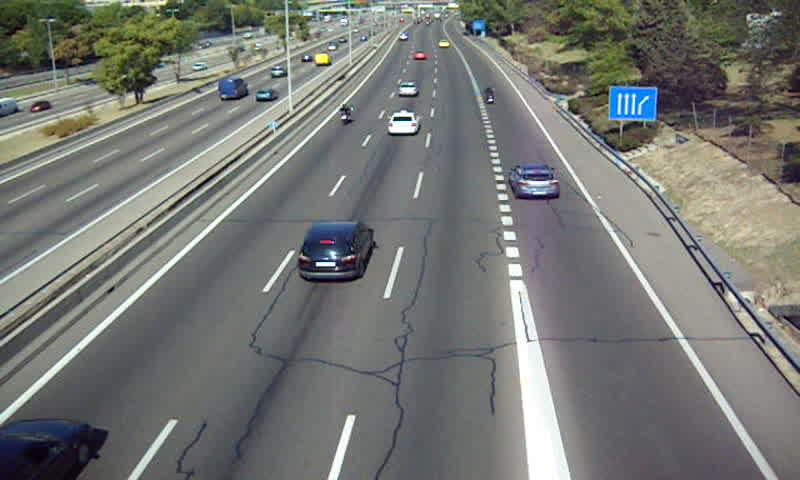car: (298, 221, 375, 280), (510, 164, 559, 200), (387, 111, 419, 134), (397, 81, 419, 97), (411, 50, 429, 61)
motorcycle: (338, 102, 353, 126), (483, 85, 495, 106)
